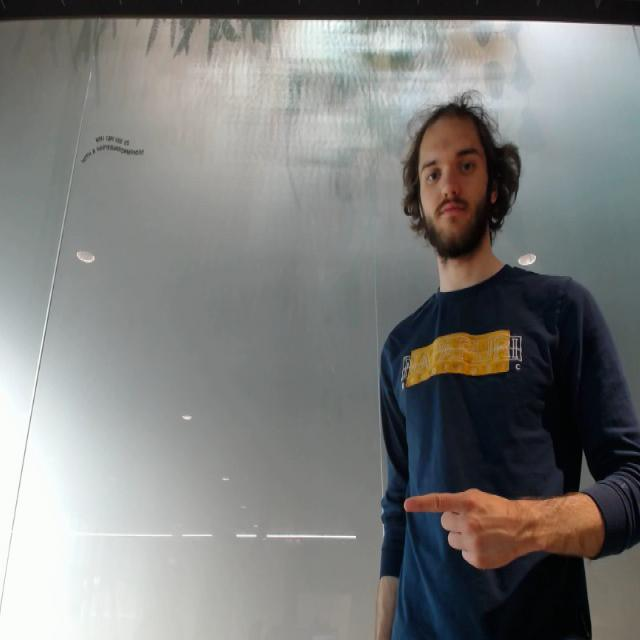left: (399, 484, 530, 572)
